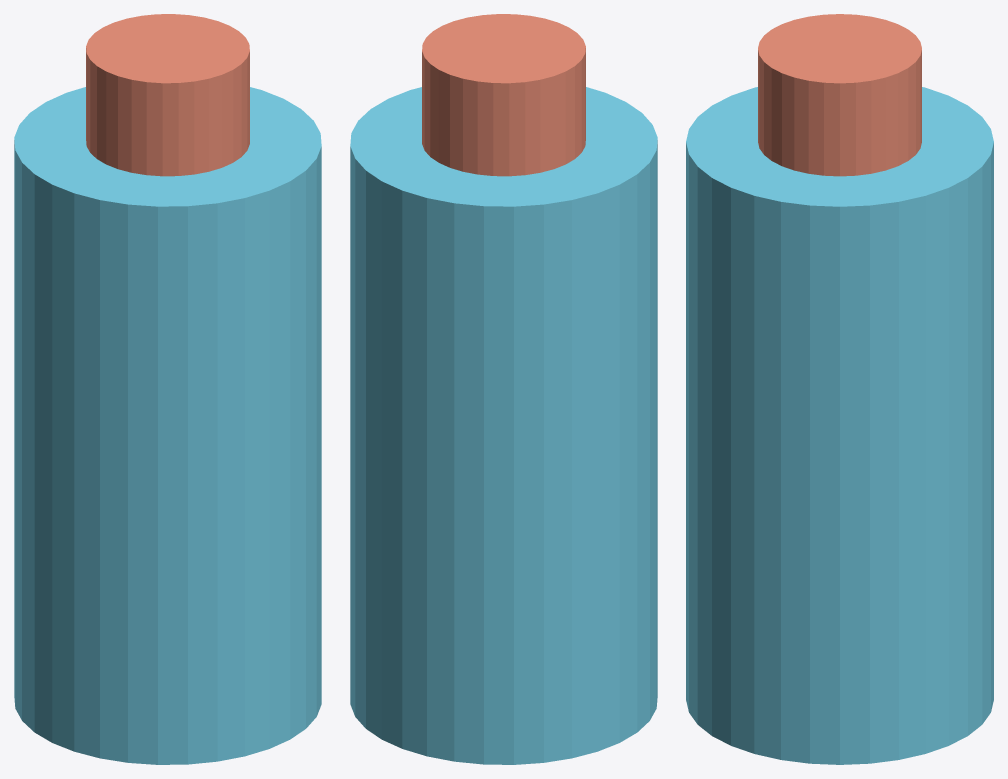
The model's file is product_bottle.glb.
3 renders of one model, left to right at view 1: azimuth 30°, elevation 25°; view 2: azimuth 150°, elevation 25°; view 3: azimuth 270°, elevation 25°, orthographic.
Visible parts, largest first — view 1: Product_Bottle; view 2: Product_Bottle; view 3: Product_Bottle.
Part boxes in pixels (x1,y1,x2,y2): Product_Bottle: (14, 14, 321, 764); Product_Bottle: (350, 14, 657, 764); Product_Bottle: (686, 14, 993, 764).
Size of the model in its own units: 0.3 by 0.7 by 0.3.
